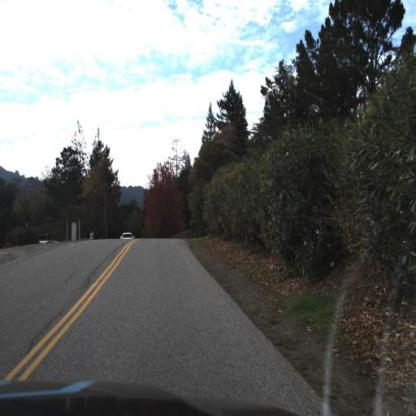car: (115, 220, 142, 250), (121, 229, 135, 244)
